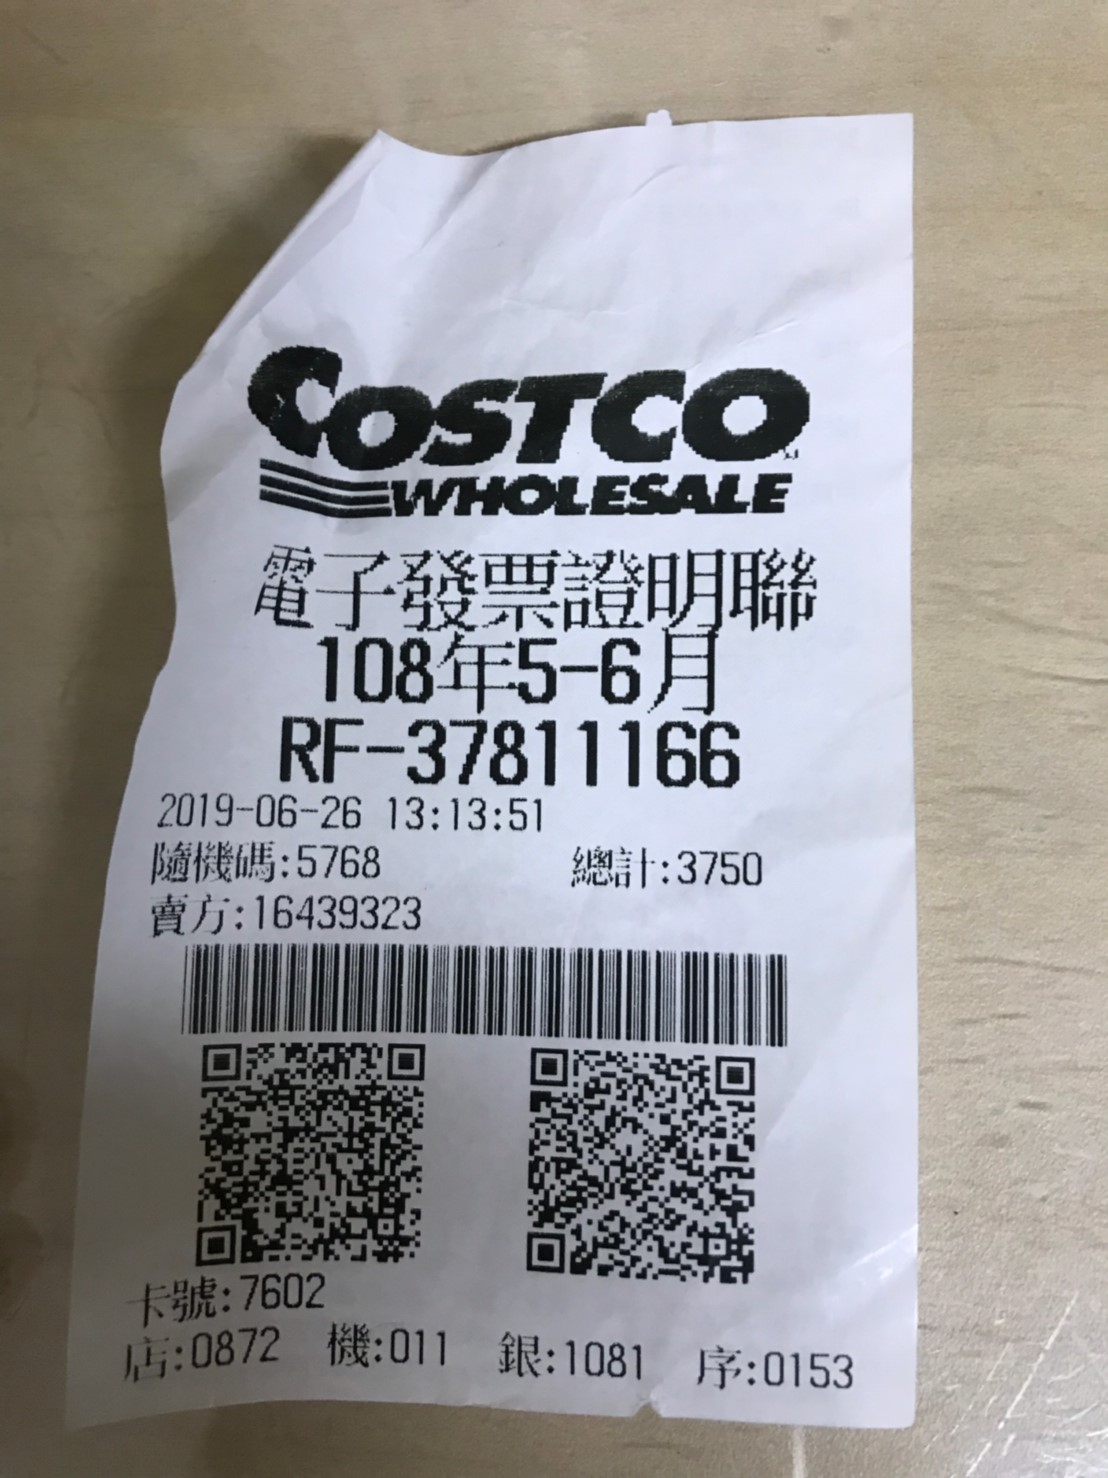Date_New: (318, 632, 718, 713)
Number_New: (405, 718, 743, 788)
